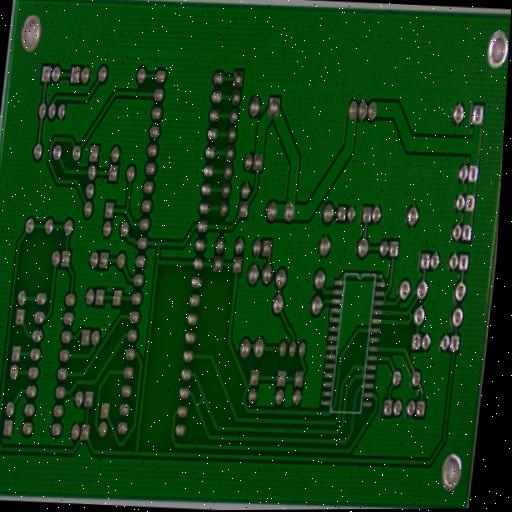short_circuit: (193, 392, 207, 415), (381, 288, 391, 306), (405, 308, 416, 323), (358, 363, 367, 381)
